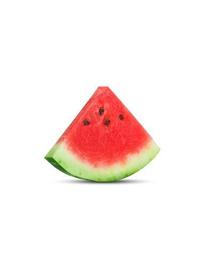watermelon: (46, 84, 164, 185)
